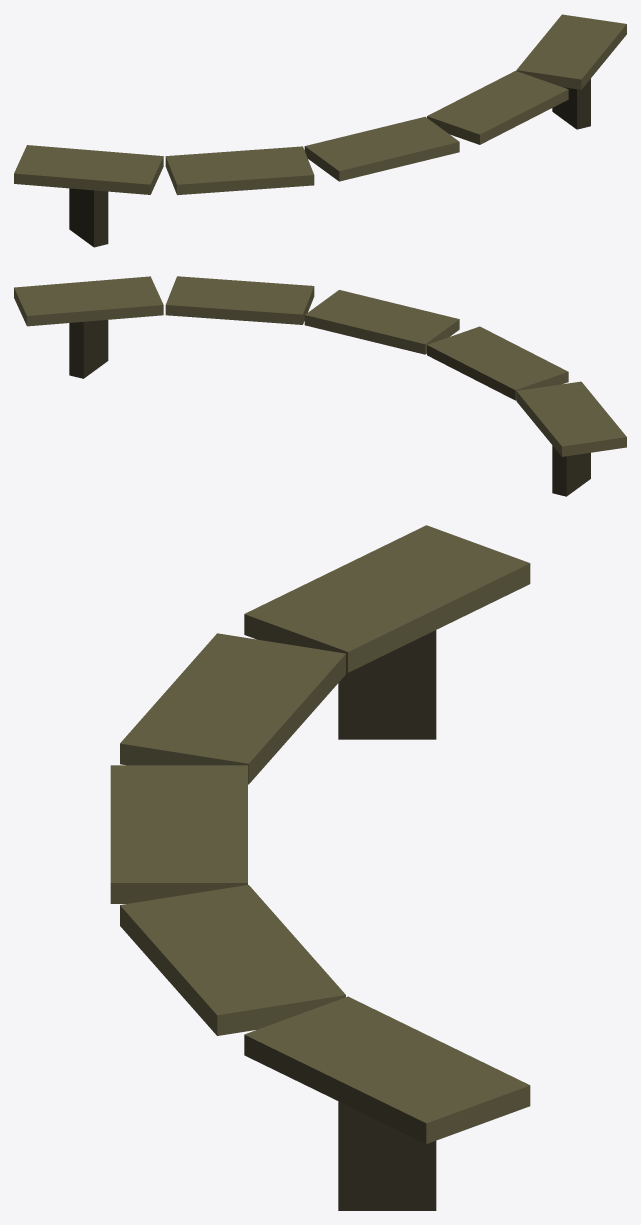
The model's file is village_bench_arc.glb.
The picture shows the model from 3 angles, top to bottom: view 1: azimuth 30°, elevation 25°; view 2: azimuth 150°, elevation 25°; view 3: azimuth 270°, elevation 25°; orthographic projection. The views are drawn at different scales.
Visible parts, largest first — view 1: benchArc_slab_2, benchArc_slab_1, benchArc_slab_0, benchArc_slab_3, benchArc_slab_4, benchArc_leg_0, benchArc_leg_4; view 2: benchArc_slab_4, benchArc_slab_3, benchArc_slab_2, benchArc_slab_1, benchArc_slab_0, benchArc_leg_4, benchArc_leg_0; view 3: benchArc_slab_4, benchArc_slab_0, benchArc_slab_3, benchArc_slab_1, benchArc_slab_2, benchArc_leg_4, benchArc_leg_0.
Boxes of the visible parts, x1,y1,x2,y2 form: benchArc_slab_2: (304, 116, 459, 181); benchArc_slab_1: (165, 146, 314, 195); benchArc_slab_0: (14, 145, 163, 194); benchArc_slab_3: (427, 71, 568, 144); benchArc_slab_4: (516, 14, 626, 89); benchArc_leg_0: (69, 188, 108, 247); benchArc_leg_4: (552, 79, 590, 129); benchArc_slab_4: (14, 276, 163, 326); benchArc_slab_3: (165, 276, 314, 324); benchArc_slab_2: (304, 290, 459, 354); benchArc_slab_1: (427, 326, 568, 400); benchArc_slab_0: (516, 381, 626, 456); benchArc_leg_4: (69, 320, 108, 378); benchArc_leg_0: (552, 445, 590, 496); benchArc_slab_4: (244, 996, 530, 1143); benchArc_slab_0: (244, 525, 530, 672); benchArc_slab_3: (120, 885, 345, 1035); benchArc_slab_1: (120, 633, 345, 784); benchArc_slab_2: (110, 765, 247, 903); benchArc_leg_4: (338, 1101, 436, 1210); benchArc_leg_0: (338, 630, 436, 739).
Size of the model in its own units: 4.32 by 0.485 by 1.28.
